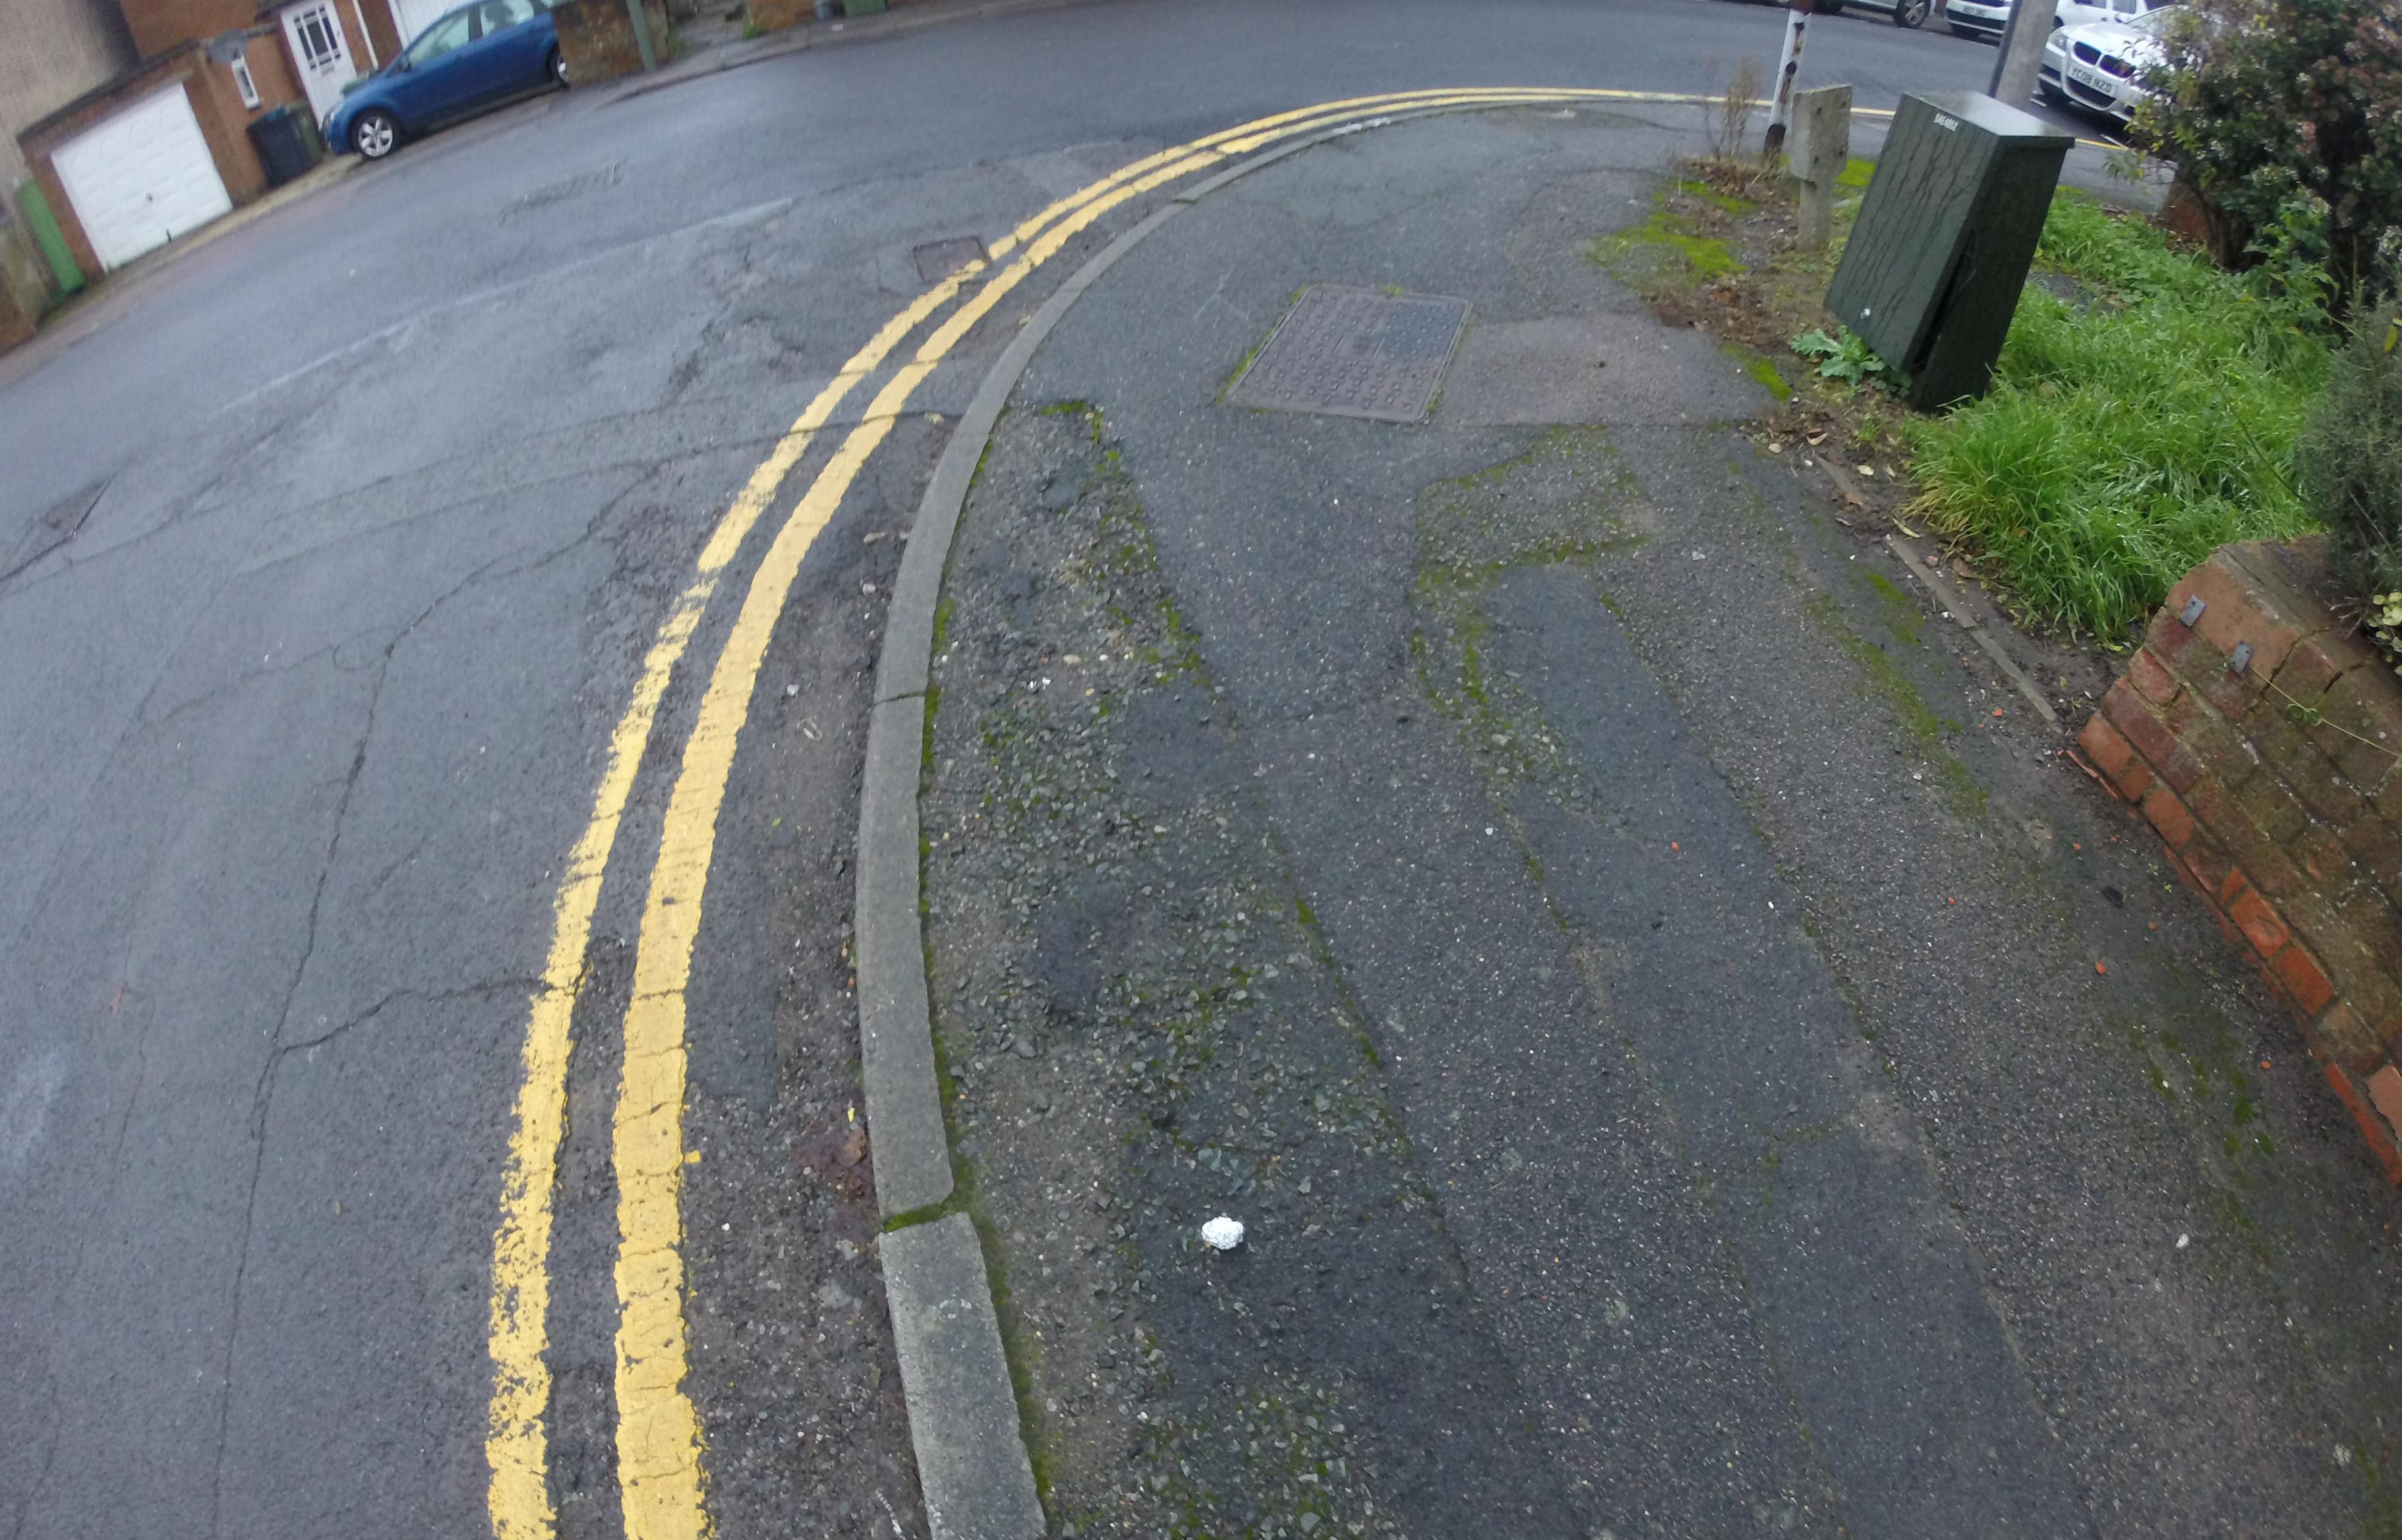Trash: (1192, 1209, 1252, 1260)
